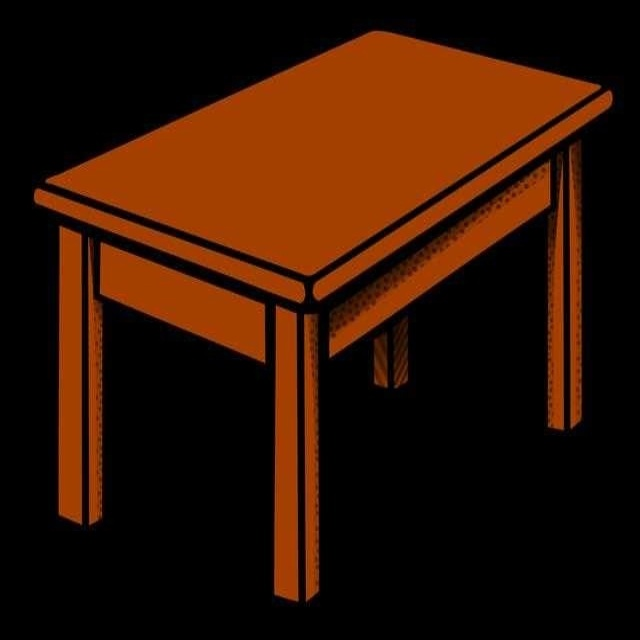obstacle: (35, 32, 611, 602)
